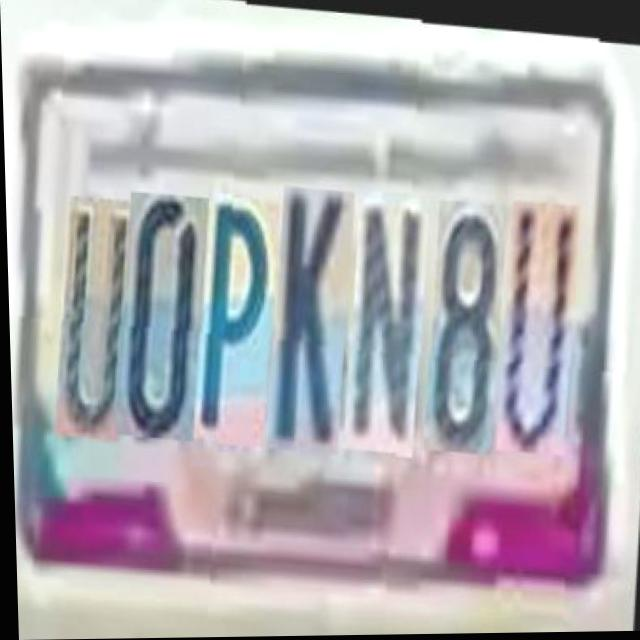0: (114, 188, 216, 437)
8: (423, 184, 513, 440)
k: (266, 177, 362, 445)
n: (342, 180, 436, 444)
p: (193, 187, 287, 440)
u: (496, 183, 586, 439), (54, 193, 141, 439)
